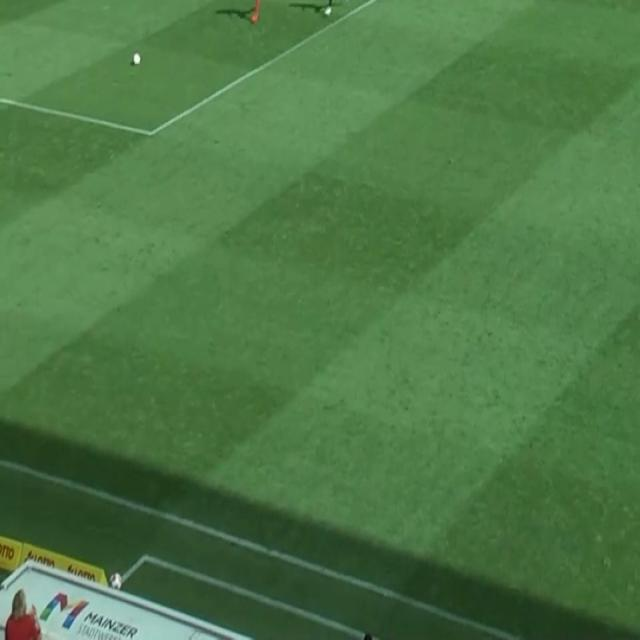ball: (133, 52, 140, 65)
